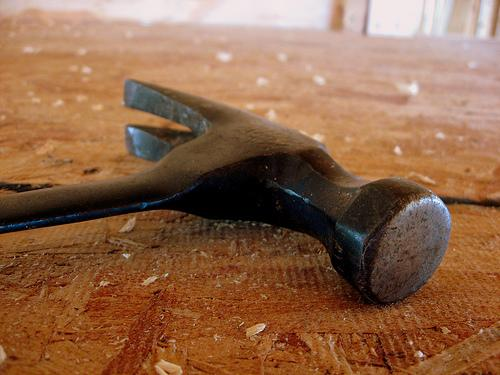hammer: (0, 76, 453, 306)
